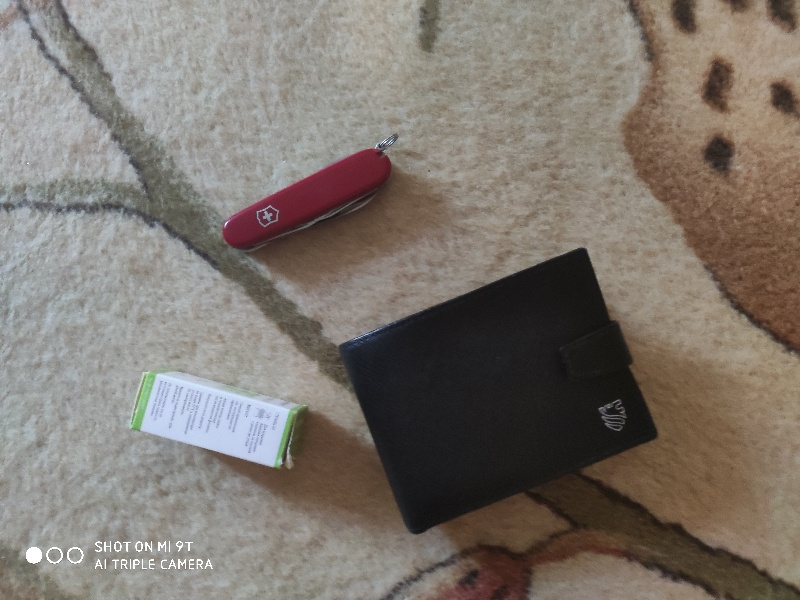ifrin: (121, 355, 321, 481)
knife: (221, 155, 405, 255)
wallet: (328, 245, 665, 545)
